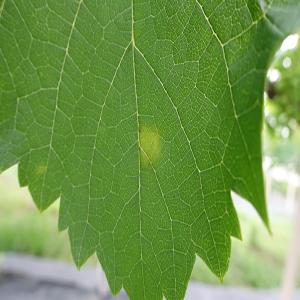Folha: (0, 0, 298, 299)
Fungo: (138, 122, 164, 164), (282, 56, 292, 68)
